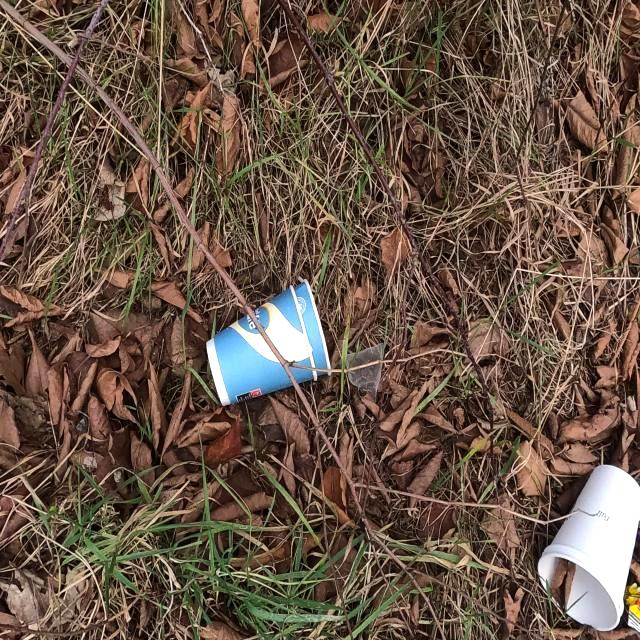Coffee Cup: (534, 459, 640, 633), (201, 274, 333, 408)
